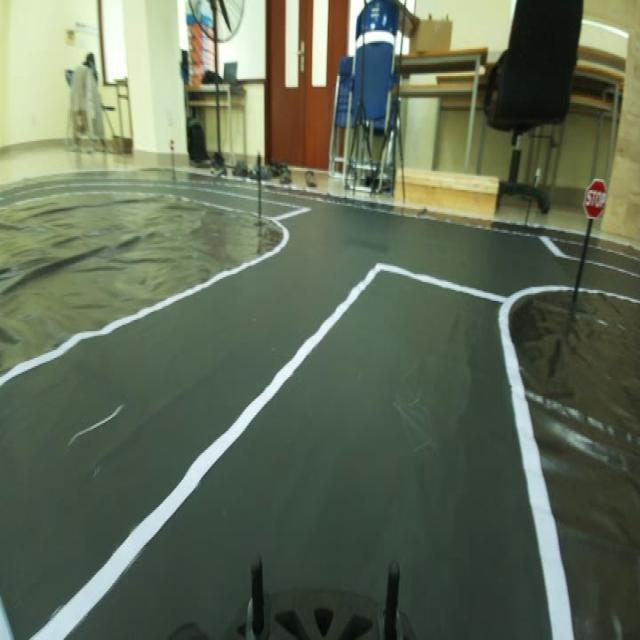stop: (579, 162, 611, 224)
